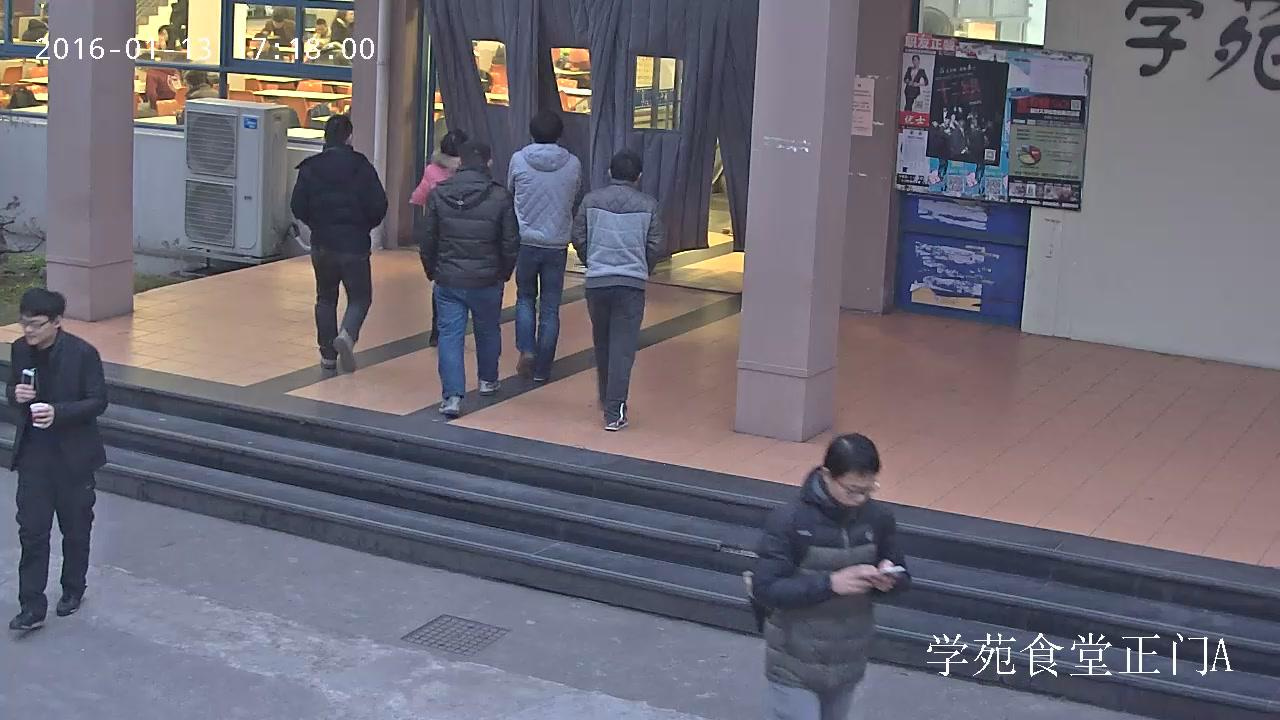person: (743, 433, 911, 719), (5, 289, 108, 630), (418, 139, 521, 415), (573, 150, 665, 431), (290, 114, 386, 373), (507, 111, 582, 382), (409, 128, 471, 345), (176, 69, 218, 124), (260, 7, 297, 47), (903, 54, 928, 112), (330, 11, 355, 41)
